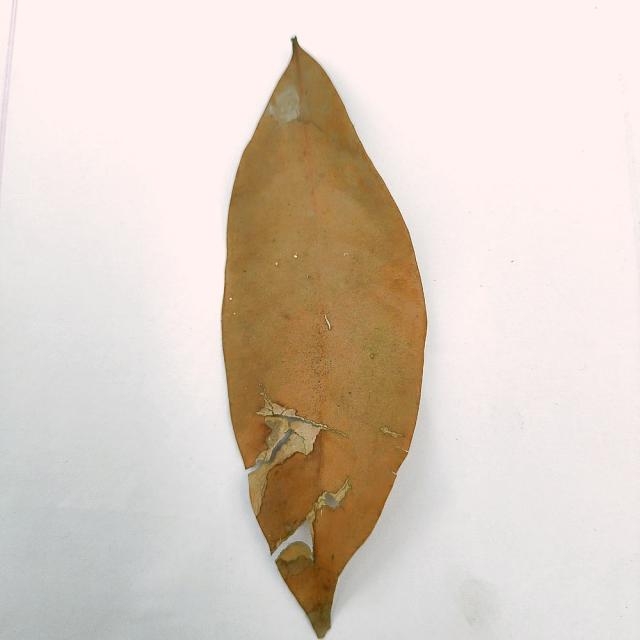Dry_Leaf-Lychee: (220, 39, 429, 639)
